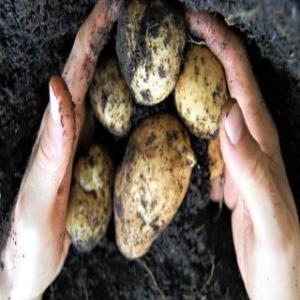potato: (115, 116, 192, 260), (118, 1, 183, 105), (66, 146, 114, 252), (173, 47, 225, 137), (90, 64, 134, 138), (206, 132, 228, 182)
